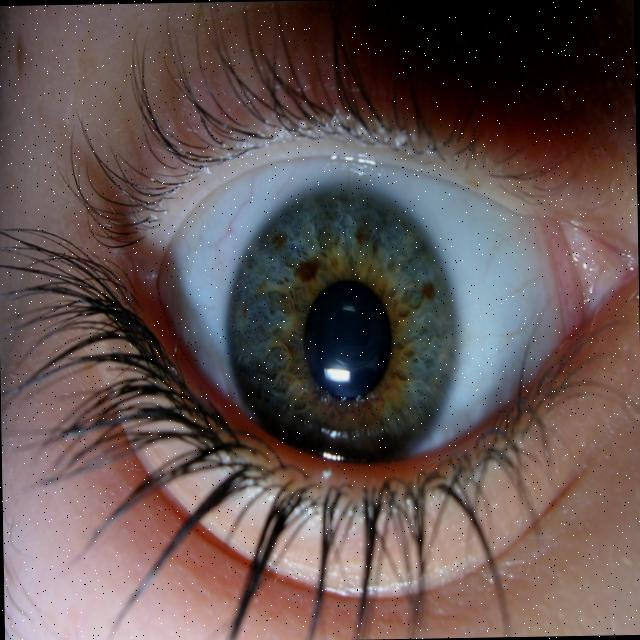Normal: (21, 99, 636, 544)
